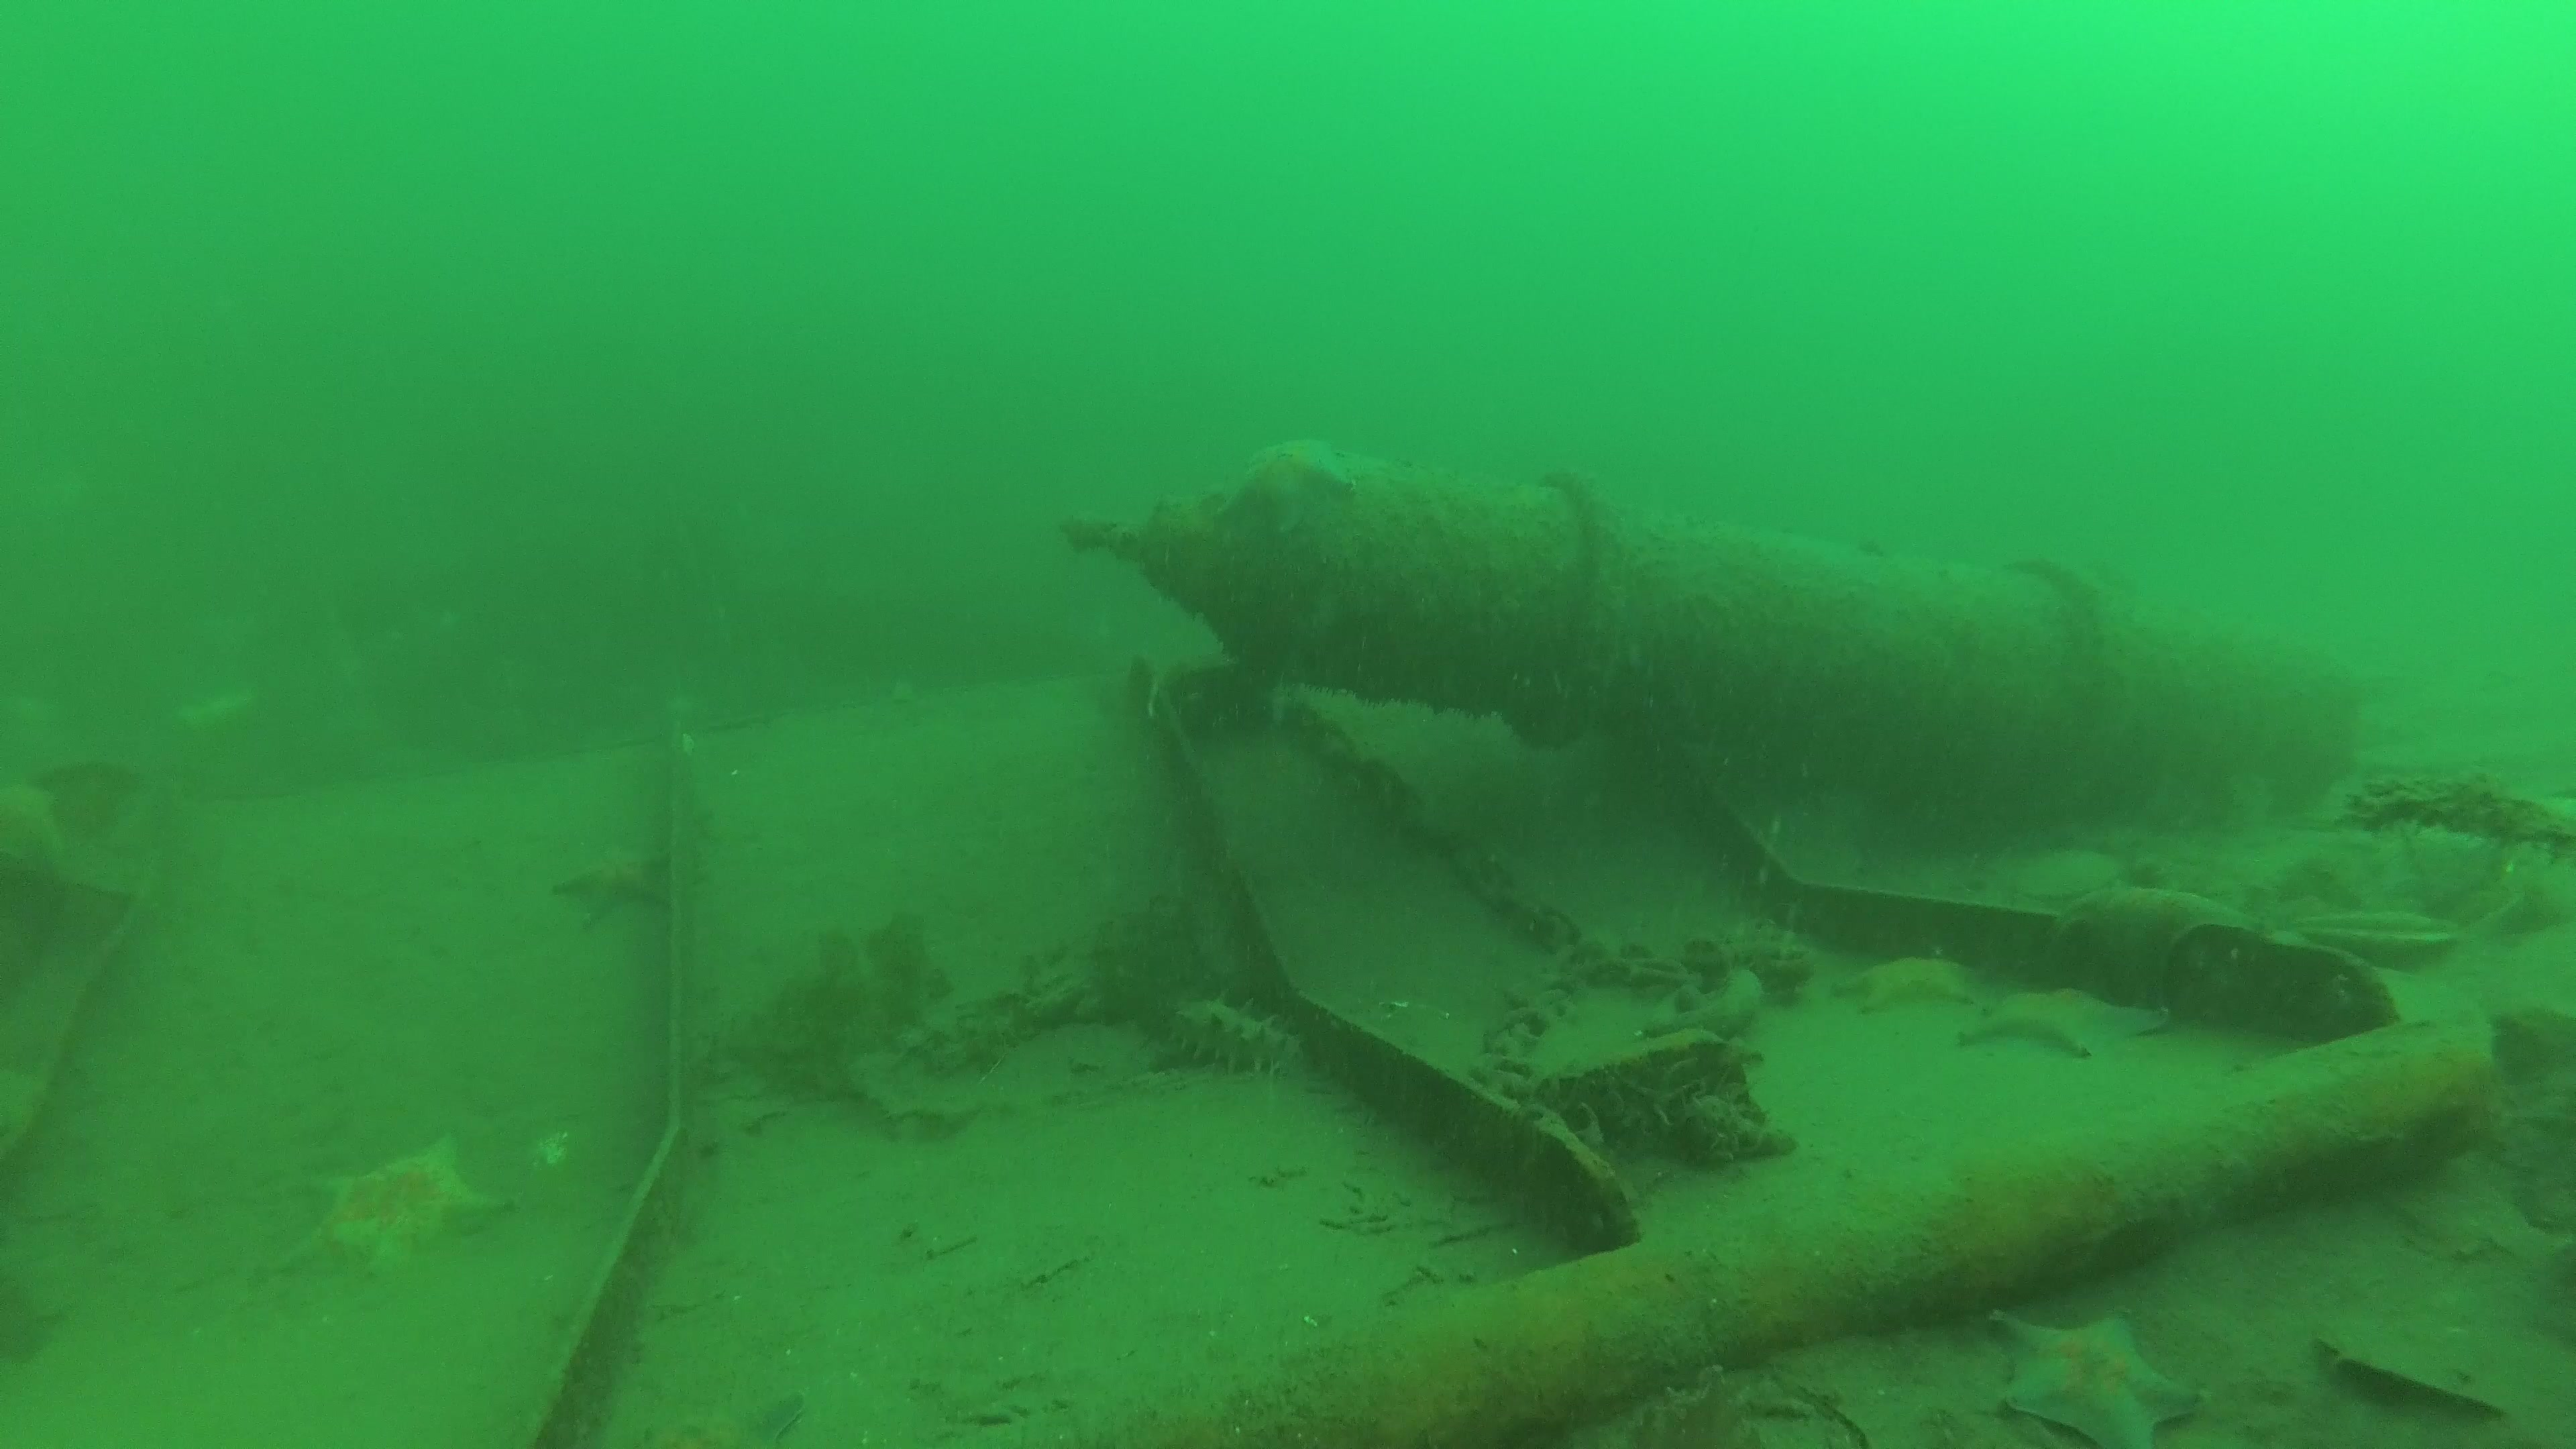holothurian: (1159, 994, 1297, 1077)
starfish: (267, 1136, 513, 1281), (1985, 1309, 2196, 1449), (1957, 985, 2171, 1060), (1219, 441, 1357, 536), (556, 846, 674, 927), (1835, 957, 1982, 1010)
